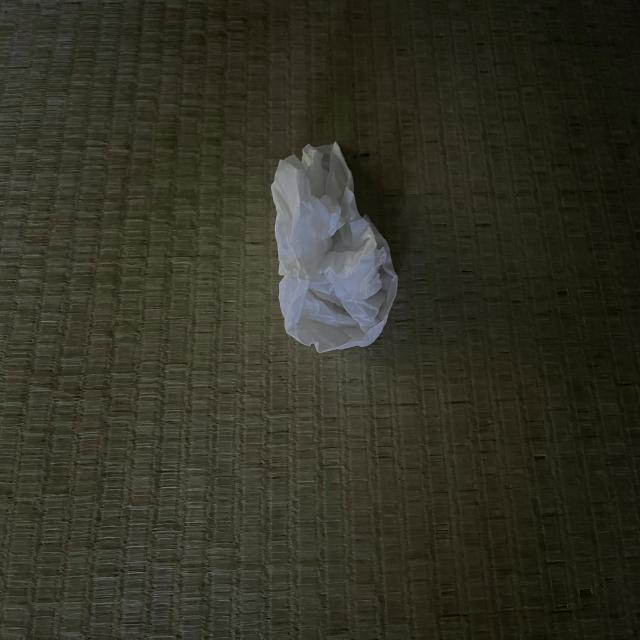Paper: (258, 124, 402, 364)
